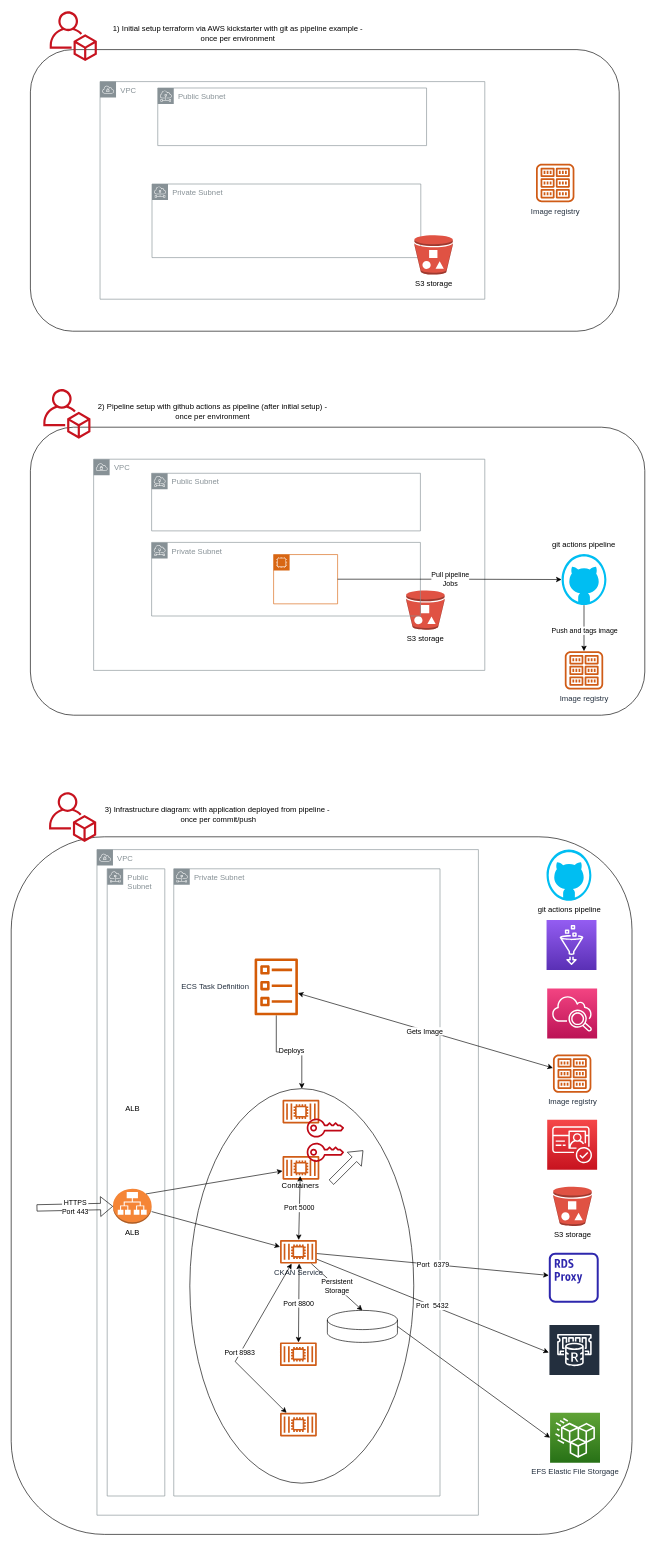
Image size: 656x1546. Some labels were removed from this diagram. The shapes that lost their labels are listed below. From the top down, each one's centre as x and y in pixels, then its label:
the point at 305,579: EC2 instance with action runner
the point at 571,944: Glue catalogue
the point at 572,1013: Cloudwatch
the point at 572,1144: Cognito
the point at 573,1277: PostgreSQL
the point at 362,1326: Mounted EFS Volume
the point at 298,1354: Datapusher Service
the point at 574,1362: Amazon ElastiCache for Redis
the point at 298,1424: SOLR Service
